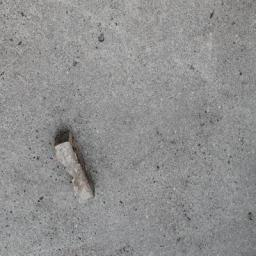FOD: (53, 130, 98, 203)
